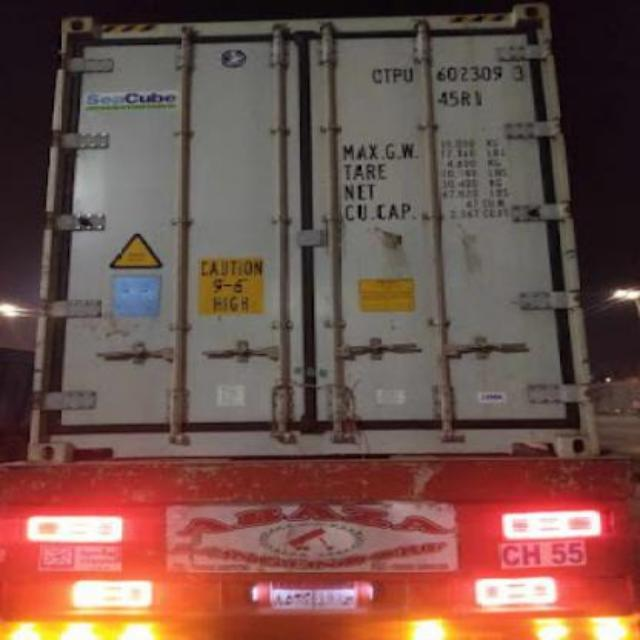0: (480, 58, 492, 86), (446, 60, 458, 84)
2: (458, 61, 468, 85)
3: (512, 61, 526, 85), (468, 61, 480, 85)
6: (434, 61, 446, 87)
9: (490, 61, 506, 87)
O: (368, 64, 382, 86)
P: (392, 64, 402, 86)
T: (380, 63, 392, 87)
U: (402, 59, 416, 86)
